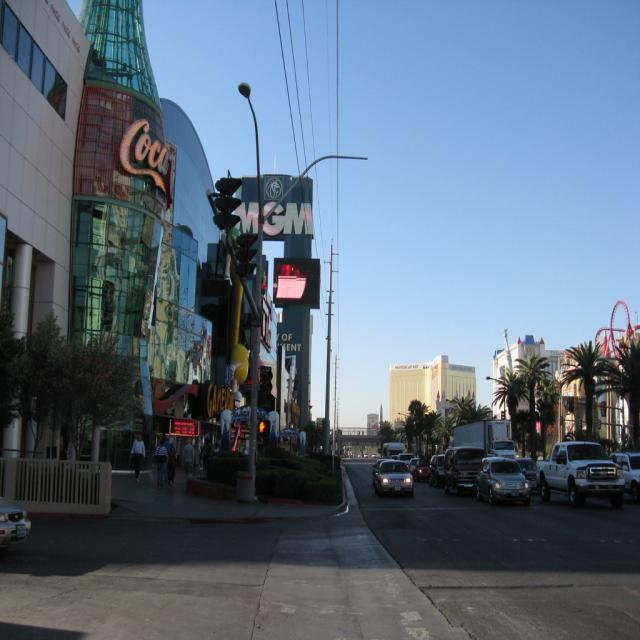off traffic light: (224, 176, 243, 230), (245, 233, 258, 278)
